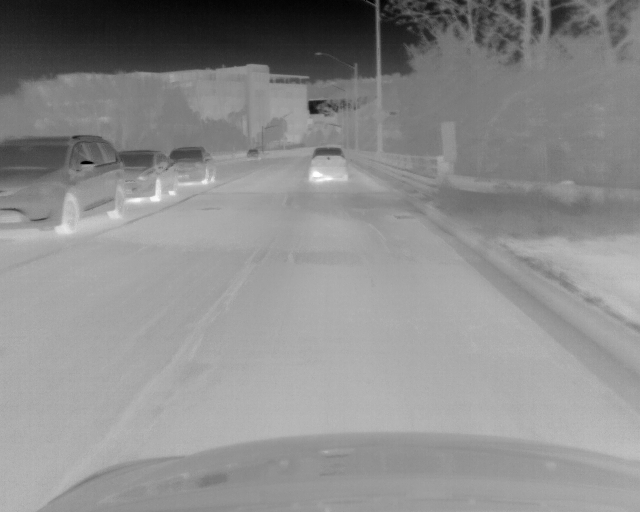car: (1, 135, 122, 235), (120, 148, 176, 204), (173, 147, 215, 187), (308, 146, 349, 183), (246, 148, 259, 159)
